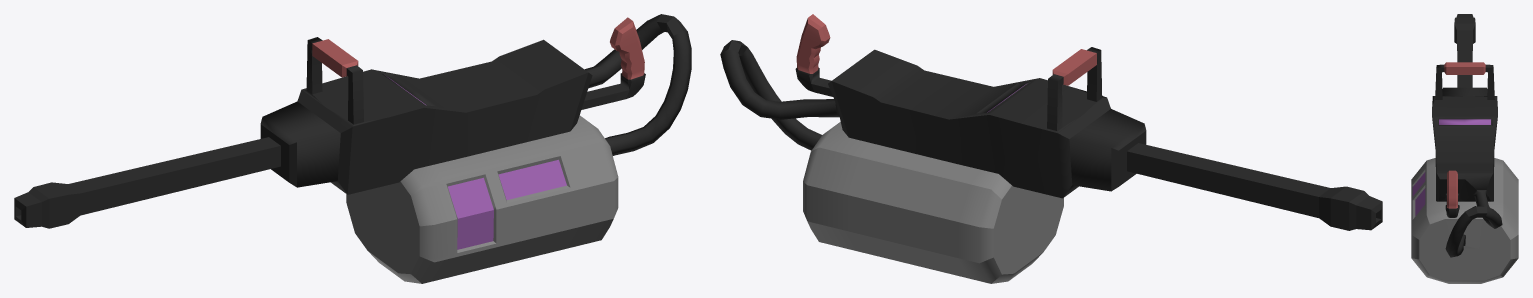
Rendered from BubbleGun.fbx.
The picture shows the model from 3 angles, left to right: view 1: azimuth 30°, elevation 25°; view 2: azimuth 150°, elevation 25°; view 3: azimuth 270°, elevation 25°; orthographic projection. The views are drawn at different scales.
Parts seen in each view (by area): view 1: gun; view 2: gun; view 3: gun.
Part boxes in pixels (left/top/right/bottom): gun: left=14, top=14, right=691, bottom=283; gun: left=720, top=14, right=1382, bottom=283; gun: left=1411, top=14, right=1518, bottom=283.
Bounding box in the file's own units: 5.02 × 1.67 × 1.1.
